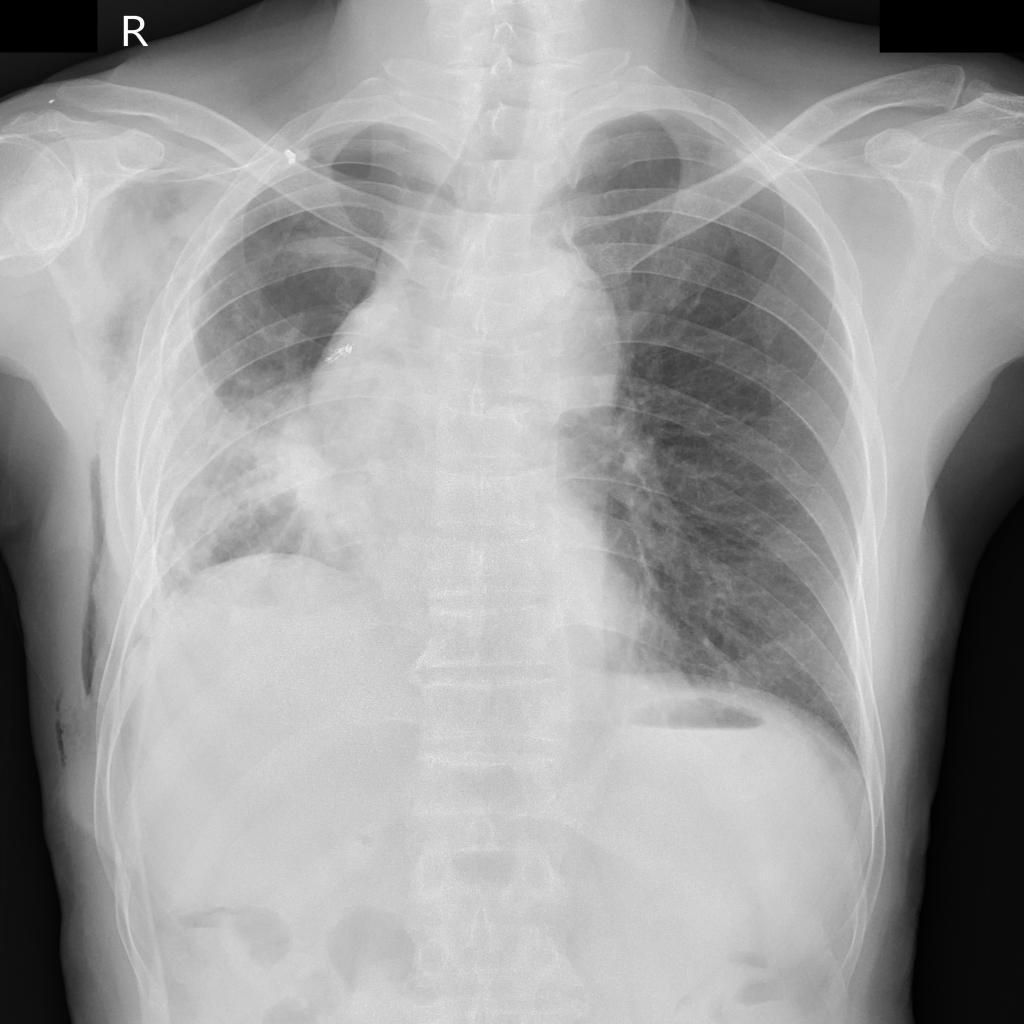Nodule: (296, 301, 412, 548)
